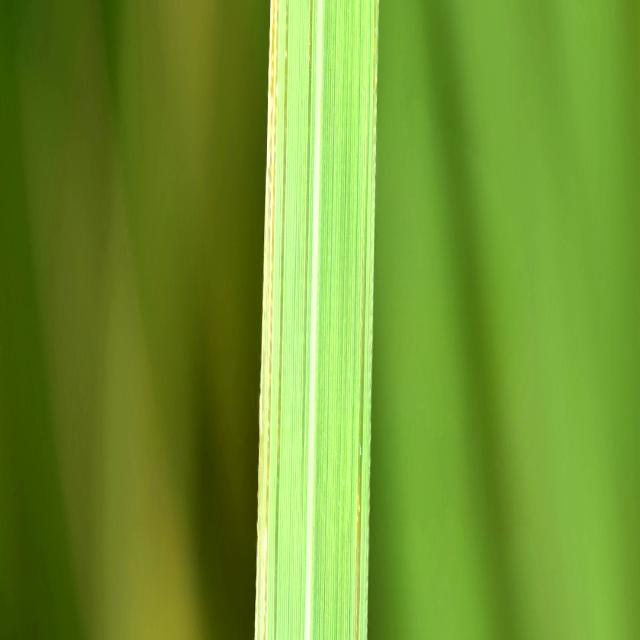BLS: (255, 0, 280, 640), (274, 0, 289, 640), (354, 68, 369, 640), (301, 0, 313, 486), (374, 0, 377, 87)
